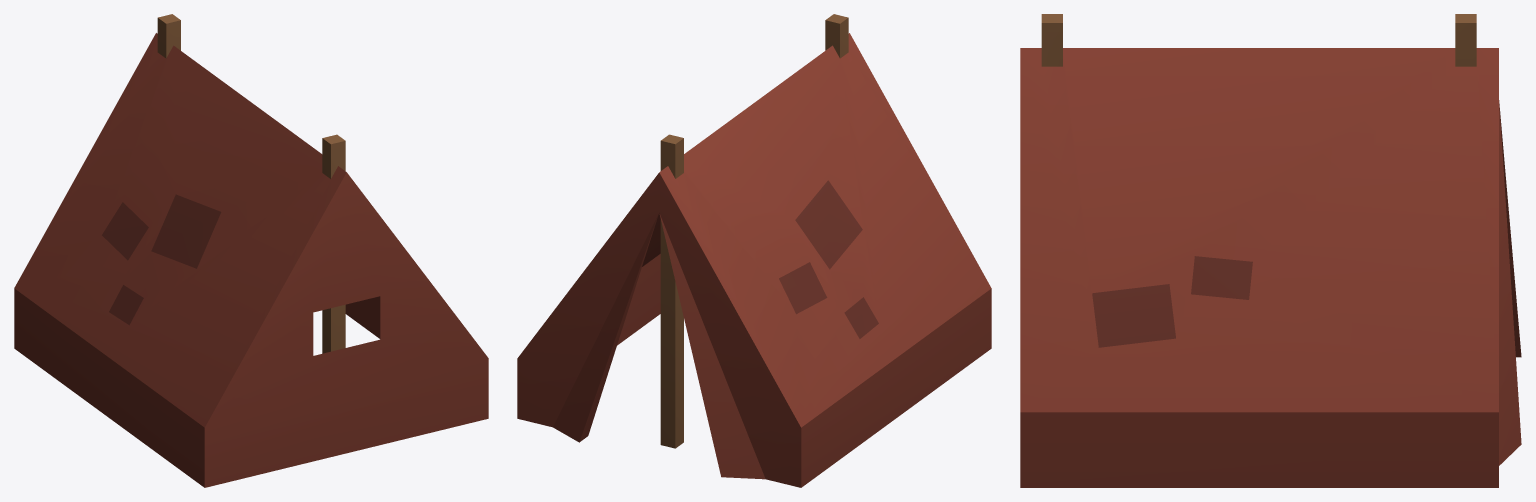
The model's file is tent_s.glb.
3 views of the same model, side by side, from view 1: azimuth 30°, elevation 25°; view 2: azimuth 150°, elevation 25°; view 3: azimuth 270°, elevation 25° (orthographic). The views are drawn at different scales.
Visible parts, largest first — view 1: tent_s; view 2: tent_s; view 3: tent_s.
Boxes of the visible parts, x1,y1,x2,y2 form: tent_s: [14, 14, 488, 487]; tent_s: [517, 14, 991, 487]; tent_s: [1020, 14, 1521, 487].
Bounding box in the file's own units: 1.73 × 1.77 × 2.1.
